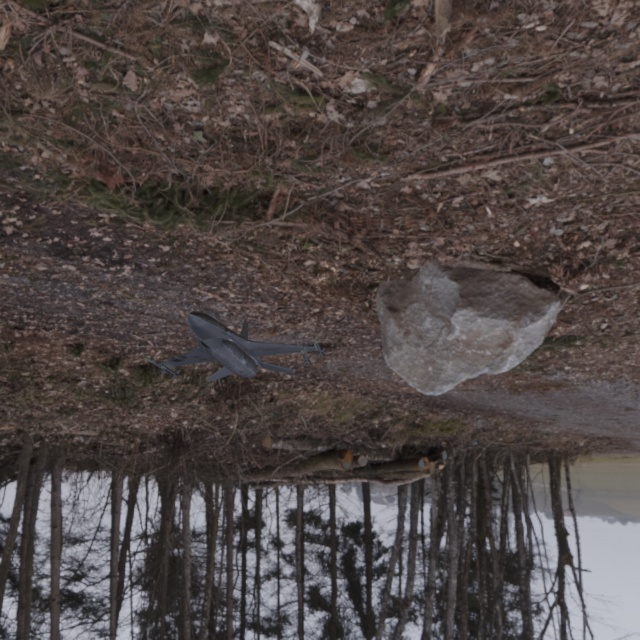model: (84, 221, 326, 394)
